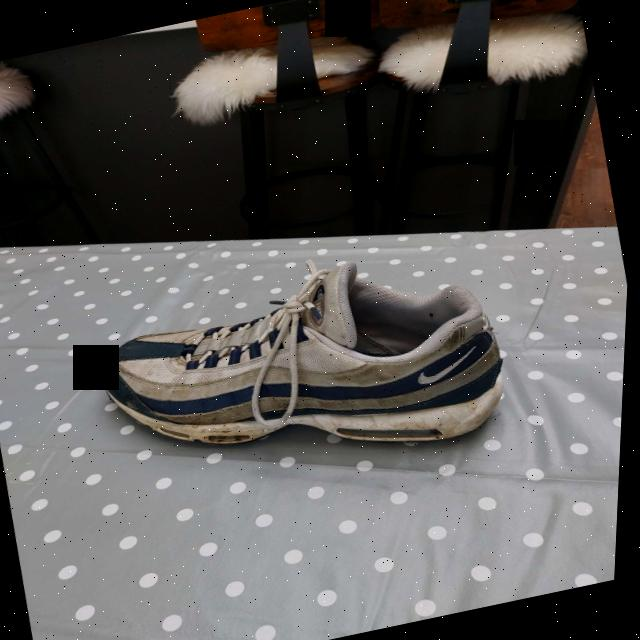shoes: (85, 232, 526, 510)
